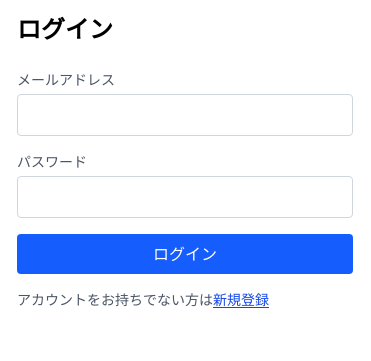
Scenario: LoginPage › ApiErrorならサーバーのメッセージを表示する
In the field labelled "メールアドレス": (185, 115) [17, 94, 353, 136], type "user@example.com"
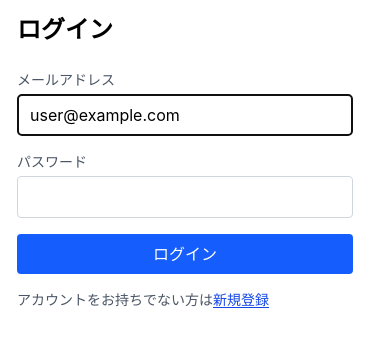
In the password field labelled "パスワード": (185, 197) [17, 176, 353, 218], type "password123"
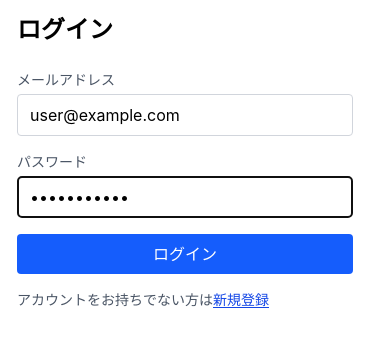
Click the button "ログイン": (185, 254) [17, 234, 353, 274]
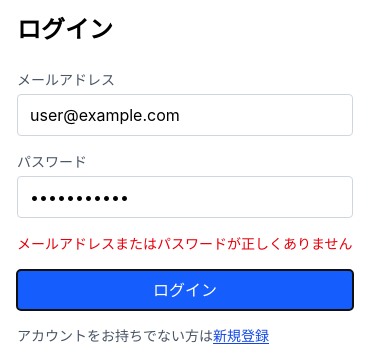
Expected: the text "メールアドレスまたはパスワードが正しくありません" is shown, [17, 234, 353, 254]
